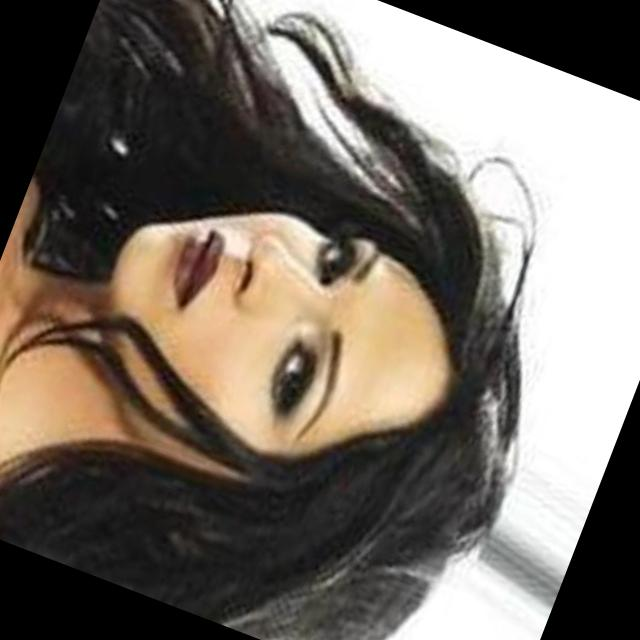bareface: (34, 149, 530, 605)
